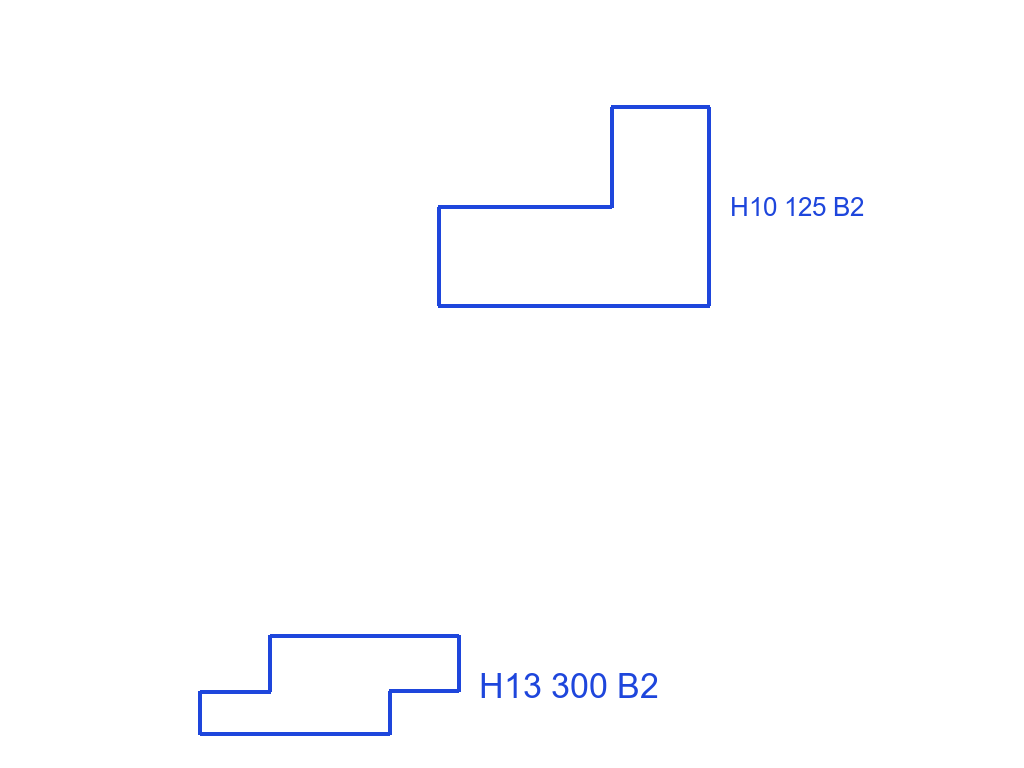shape: (435, 103, 714, 310), (197, 631, 463, 739)
text: (477, 671, 661, 700), (728, 195, 866, 218)
